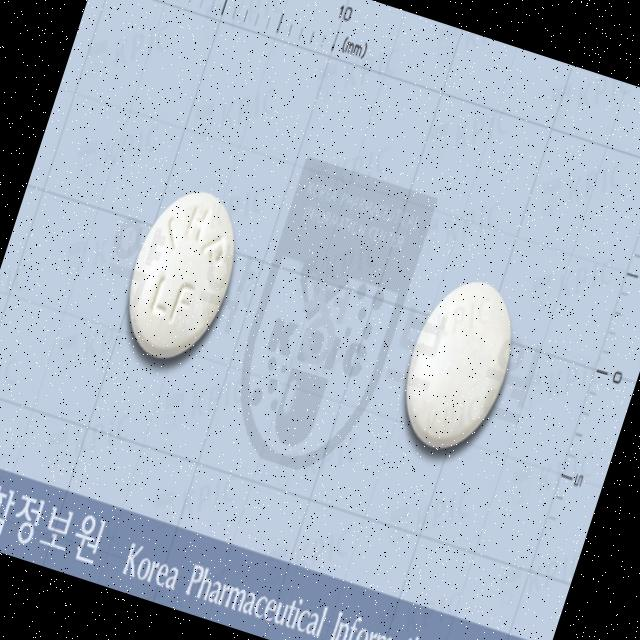Lesacin: (387, 264, 534, 466), (108, 174, 256, 374)
